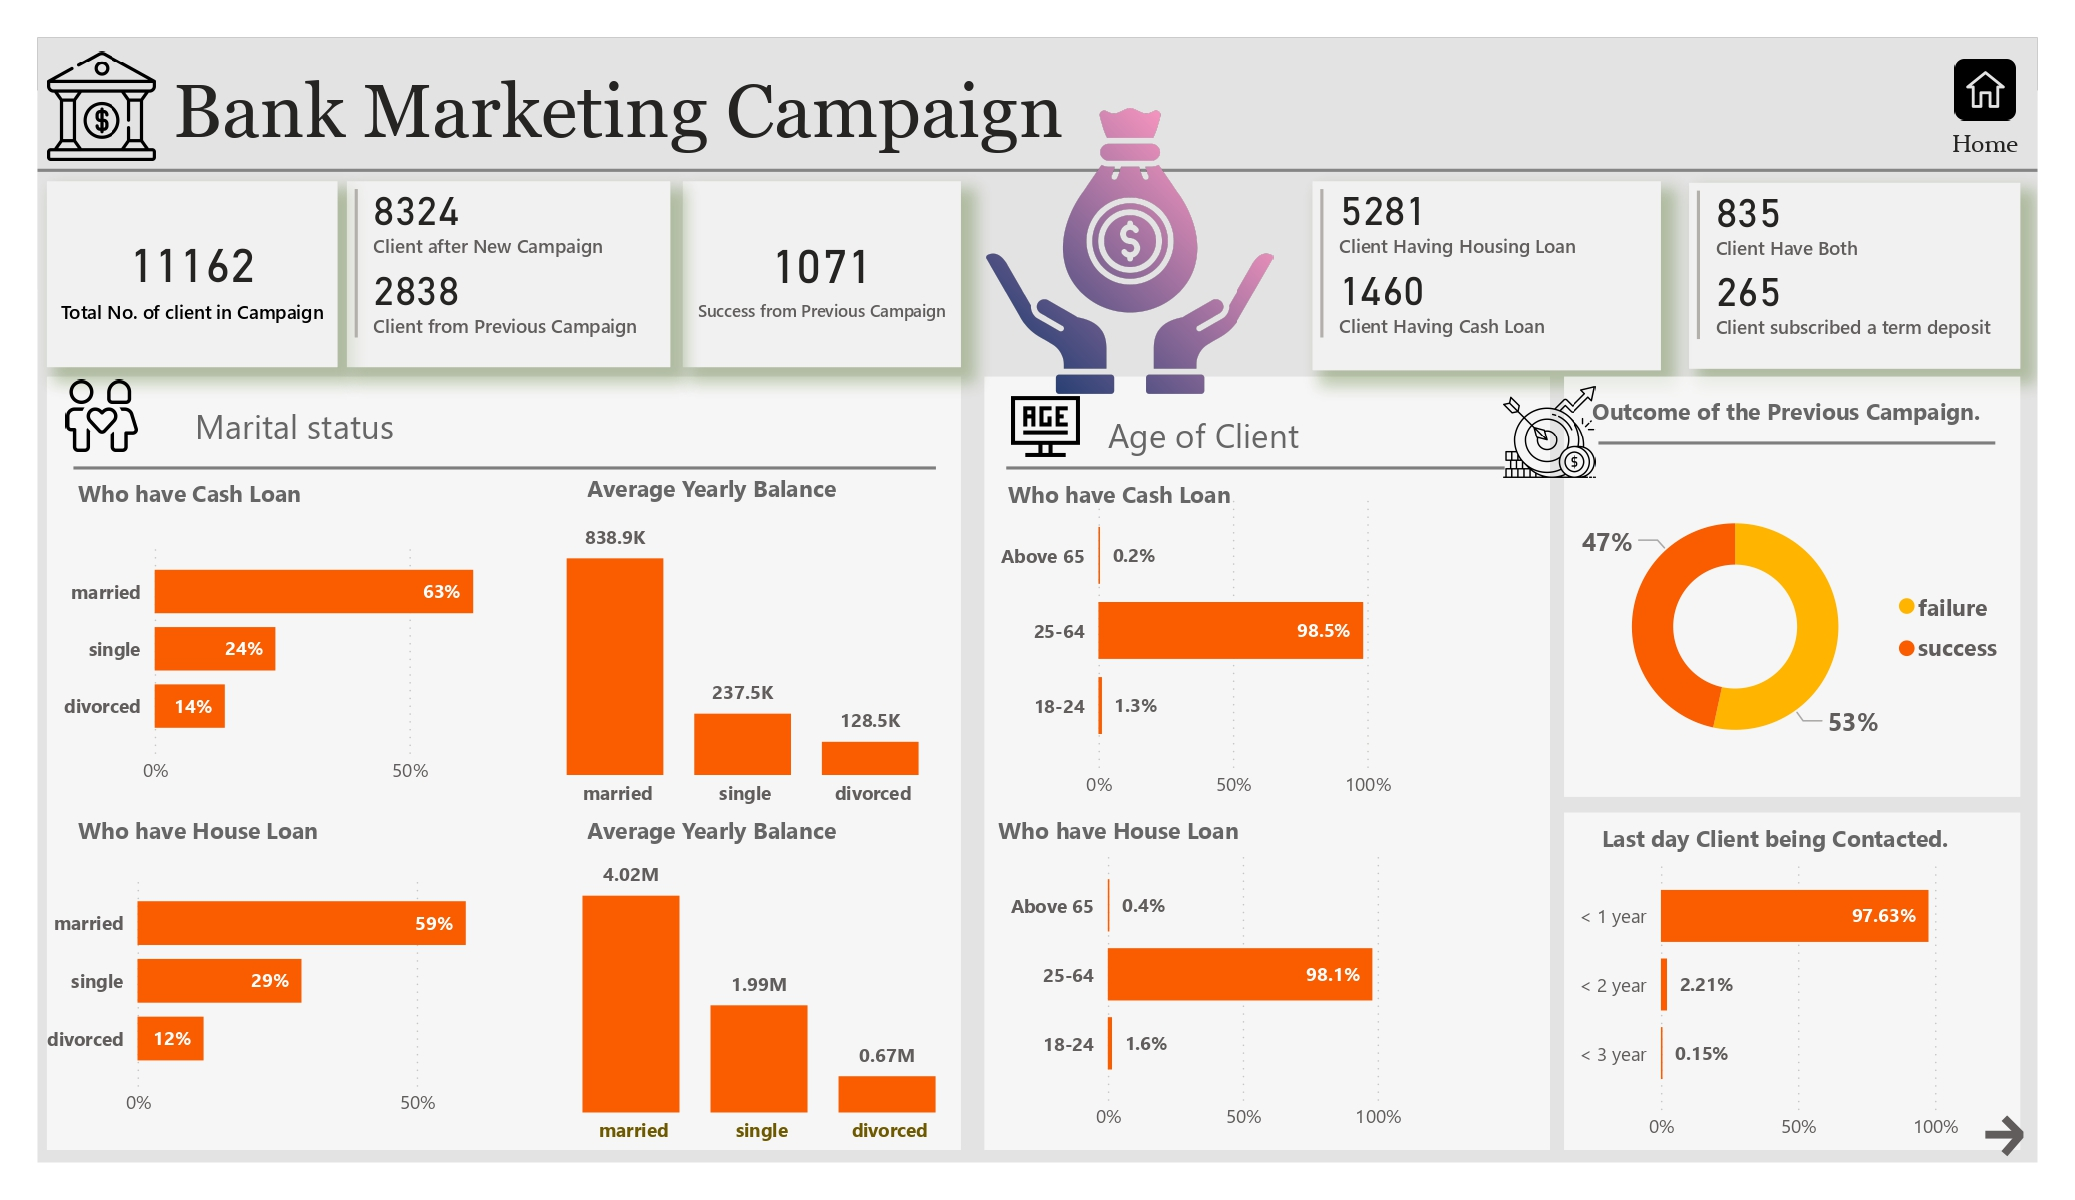

What the dashboard file says about the page in this screenshot:
{"tool":"powerbi","page":{"name":"Bank","canvas":[1280,720],"ordinal":1},"visuals":[{"type":"shape","box":[6,217.2,585.1,494.6],"z":0},{"type":"shape","box":[605.6,217.2,361.9,494.6],"z":1000},{"type":"shape","box":[0,72.7,1280,24.7],"z":2000},{"type":"image","box":[0,4.1,82.3,79.6],"z":3000},{"type":"textbox","box":[82.3,15.1,598.3,75.5],"z":4000},{"type":"image","box":[1216.5,8.7,60.8,49.7],"z":5000},{"type":"textbox","box":[1212.7,53.4,67,29.8],"z":6000},{"type":"card","fields":{"Values":["bank.Campaign(Success)"]},"box":[413,91.9,178.4,119.4],"z":7000},{"type":"image","box":[575,39.8,247,193.5],"z":8000},{"type":"card","fields":{"Values":["Measures (2).Total number of client"]},"box":[6,91.7,185.8,119.4],"z":9000},{"type":"multiRowCard","fields":{"Values":["Measures (2).Housing for \"Yes\"","Measures (2).Loan for \"Yes\""]},"box":[816.5,91.9,222.3,120.8],"z":10000},{"type":"multiRowCard","fields":{"Values":["Measures (2).No of New Campaign","Measures (2).No of Previous Campaign"]},"box":[197.6,91.9,207.2,119.4],"z":11000},{"type":"multiRowCard","fields":{"Values":["Measures (2).Client Both","Measures (2).Client subscribed a term deposit"]},"box":[1056.8,92.9,212.3,119.4],"z":12000},{"type":"clusteredBarChart","fields":{"Y":["CountNonNull(bank.ID)"],"Series":["bank.loan"],"Category":["bank.marital"]},"box":[11,312.9,320,174],"z":13000},{"type":"clusteredBarChart","fields":{"Y":["CountNonNull(bank.ID)"],"Category":["bank.marital"],"Series":["bank.housing"]},"box":[0,524.8,319.7,174.9],"z":14000},{"type":"shape","box":[23.3,270.3,551.6,11],"z":15000},{"type":"textbox","box":[96.1,229.2,155.1,43.9],"z":16000},{"type":"image","box":[11,214.1,59,56.3],"z":17000},{"type":"textbox","box":[20.5,276.3,165.3,32.6],"z":18000},{"type":"textbox","box":[20.5,492.2,199.1,32.6],"z":19000},{"type":"textbox","box":[347.5,272.7,205.1,31.4],"z":20000},{"type":"textbox","box":[347.5,492.2,205.1,31.4],"z":21000},{"type":"clusteredColumnChart","fields":{"Y":["Sum(bank.balance)"],"Category":["bank.marital"],"Series":["bank.housing"]},"box":[311.3,510.3,305.2,207.5],"z":22000},{"type":"shape","box":[620.1,270.2,318.5,10.9],"z":23000},{"type":"textbox","box":[680.4,235.3,162.9,44.6],"z":24000},{"type":"image","box":[610.5,222,70,54.3],"z":25000},{"type":"clusteredBarChart","fields":{"Category":["bank.Age Range"],"Y":["CountNonNull(bank.ID)"],"Series":["bank.loan"]},"box":[610.5,281.1,293.2,214.7],"z":26000},{"type":"clusteredBarChart","fields":{"Category":["bank.Age Range"],"Series":["bank.housing"],"Y":["CountNonNull(bank.ID)"]},"box":[616.5,507.9,293.2,201.5],"z":27000},{"type":"textbox","box":[616.5,277.5,165.3,32.6],"z":28000},{"type":"textbox","box":[610.5,492.2,199.1,32.6],"z":29000},{"type":"shape","box":[977.2,217.2,292,269],"z":30000},{"type":"shape","box":[977.2,495.8,292,216],"z":31000},{"type":"textbox","box":[990.5,224.4,278.7,33.8],"z":32000},{"type":"donutChart","fields":{"Category":["bank.poutcome"],"Y":["CountNonNull(bank.poutcome)"]},"box":[978.4,267.6,289.5,218.2],"z":33000},{"type":"image","box":[933.1,212.7,68.6,78.2],"z":34000},{"type":"shape","box":[999,251.1,253.9,16.5],"z":35000},{"type":"textbox","box":[996.2,496.7,282.7,38.4],"z":36000},{"type":"clusteredBarChart","fields":{"Category":["bank.Last day Contacted"],"Y":["CountNonNull(bank.ID)"]},"box":[977,514.6,293.7,200.3],"z":37000},{"type":"clusteredColumnChart","fields":{"Y":["Sum(bank.balance)"],"Series":["bank.loan"],"Category":["bank.marital"]},"box":[300.5,295,304.6,207.2],"z":38000},{"type":"actionButton","box":[1241.3,686.4,38.5,33.5],"z":39001}]}

Visuals, with their boxes in screenshot pixels (x1, y1, x2, y2):
shape: l=47, t=377, r=961, b=1150
shape: l=984, t=377, r=1549, b=1150
shape: l=38, t=151, r=2038, b=190
image: l=38, t=44, r=166, b=168
textbox: l=166, t=61, r=1101, b=179
image: l=1938, t=51, r=2033, b=129
textbox: l=1932, t=121, r=2037, b=168
card - bank.Campaign(Success): l=683, t=181, r=962, b=368
image: l=936, t=100, r=1322, b=402
card - Measures (2).Total number of client: l=47, t=181, r=337, b=367
multiRowCard - Measures (2).Housing for "Yes" x Measures (2).Loan for "Yes": l=1313, t=181, r=1661, b=370
multiRowCard - Measures (2).No of New Campaign x Measures (2).No of Previous Campaign: l=346, t=181, r=670, b=368
multiRowCard - Measures (2).Client Both x Measures (2).Client subscribed a term deposit: l=1689, t=183, r=2020, b=369
clusteredBarChart - CountNonNull(bank.ID) x bank.loan: l=55, t=526, r=555, b=798
clusteredBarChart - CountNonNull(bank.ID) x bank.marital: l=38, t=857, r=537, b=1131
shape: l=74, t=460, r=936, b=477
textbox: l=188, t=396, r=430, b=464
image: l=55, t=372, r=147, b=460
textbox: l=70, t=469, r=328, b=520
textbox: l=70, t=807, r=381, b=857
textbox: l=580, t=464, r=901, b=513
textbox: l=580, t=807, r=901, b=856
clusteredColumnChart - Sum(bank.balance) x bank.marital: l=524, t=835, r=1001, b=1159
shape: l=1006, t=460, r=1504, b=477
textbox: l=1101, t=405, r=1355, b=475
image: l=991, t=384, r=1101, b=469
clusteredBarChart - bank.Age Range x CountNonNull(bank.ID): l=991, t=477, r=1450, b=812
clusteredBarChart - bank.Age Range x bank.housing: l=1001, t=831, r=1459, b=1146
textbox: l=1001, t=471, r=1259, b=522
textbox: l=991, t=807, r=1302, b=857
shape: l=1564, t=377, r=2021, b=797
shape: l=1564, t=812, r=2021, b=1150
textbox: l=1585, t=388, r=2021, b=441
donutChart - bank.poutcome x CountNonNull(bank.poutcome): l=1566, t=456, r=2019, b=797
image: l=1495, t=370, r=1603, b=492
shape: l=1598, t=430, r=1995, b=456
textbox: l=1594, t=814, r=2036, b=874
clusteredBarChart - bank.Last day Contacted x CountNonNull(bank.ID): l=1564, t=842, r=2023, b=1155
clusteredColumnChart - Sum(bank.balance) x bank.loan: l=507, t=498, r=983, b=822
actionButton: l=1977, t=1110, r=2037, b=1162
